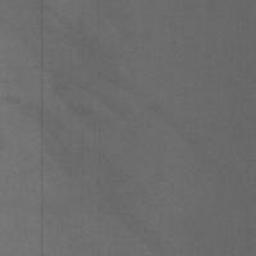Water spot: (0, 0, 200, 253)
